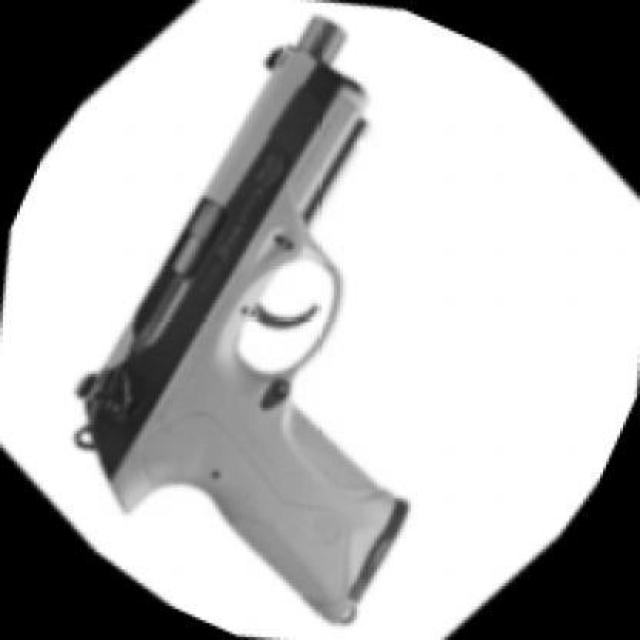weapon: (68, 10, 414, 628)
